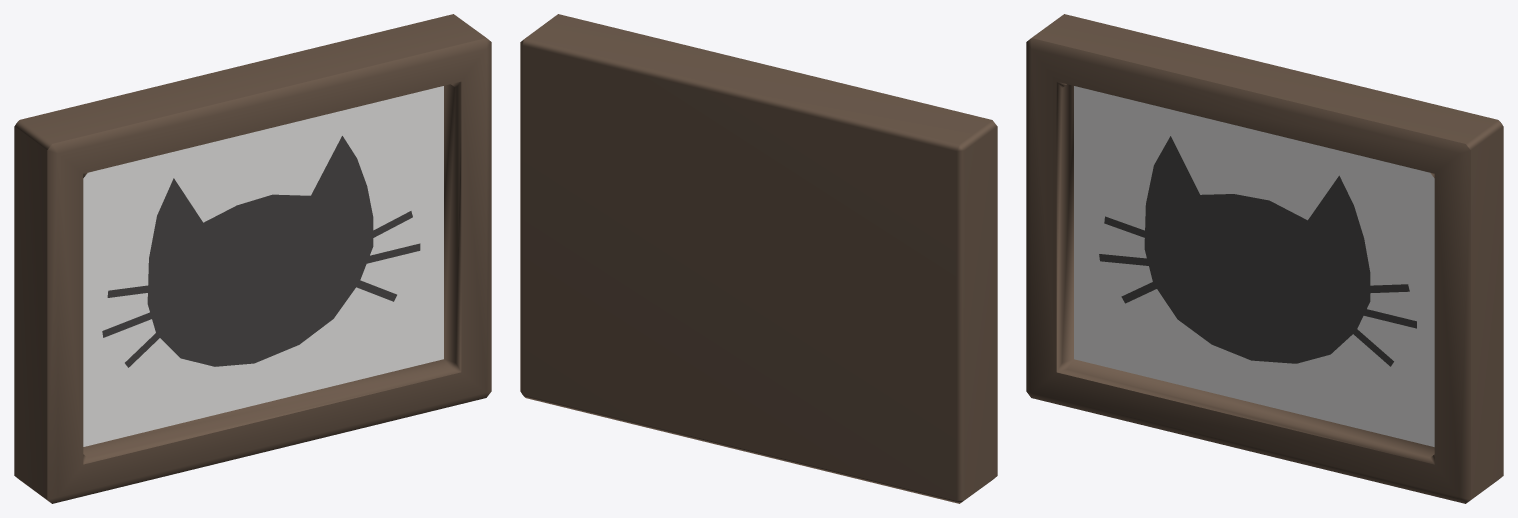
Rendered from Painting_14.glb.
3 renders of one model, left to right at view 1: azimuth 30°, elevation 25°; view 2: azimuth 150°, elevation 25°; view 3: azimuth 330°, elevation 25°, orthographic.
Parts seen in each view (by area): view 1: Painting_14; view 2: Painting_14; view 3: Painting_14.
Part boxes in pixels (x1,y1,x2,y2): Painting_14: (14, 14, 491, 503); Painting_14: (520, 14, 997, 503); Painting_14: (1026, 14, 1503, 503).
Bounding box in the file's own units: 0.6148 × 0.4759 × 0.0927.
1 material, 1 textured.
